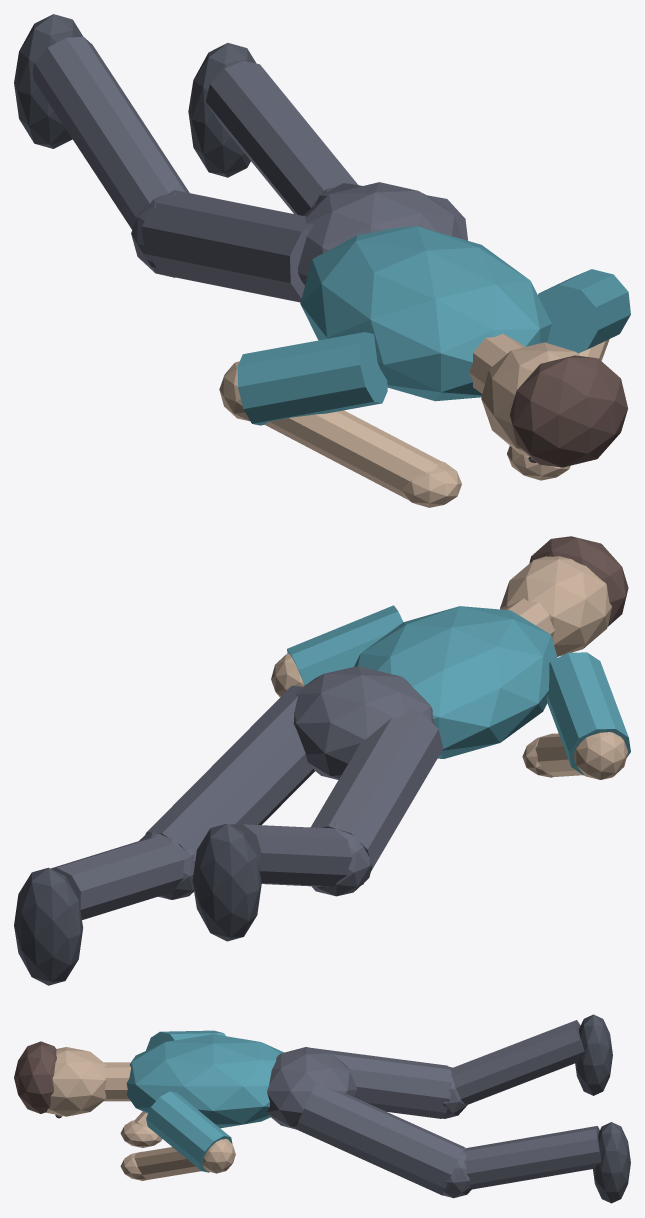
3 views of the same model, one above another, from view 1: azimuth 30°, elevation 25°; view 2: azimuth 150°, elevation 25°; view 3: azimuth 270°, elevation 25° (orthographic). The views are drawn at different scales.
Visible parts, largest first — view 1: world; view 2: world; view 3: world.
Boxes of the visible parts, x1=… form: world: x1=14, y1=14, x2=630, y2=507; world: x1=14, y1=536, x2=630, y2=985; world: x1=14, y1=1014, x2=630, y2=1203.
Size of the model in its own units: 0.93 by 0.4905 by 2.06.
